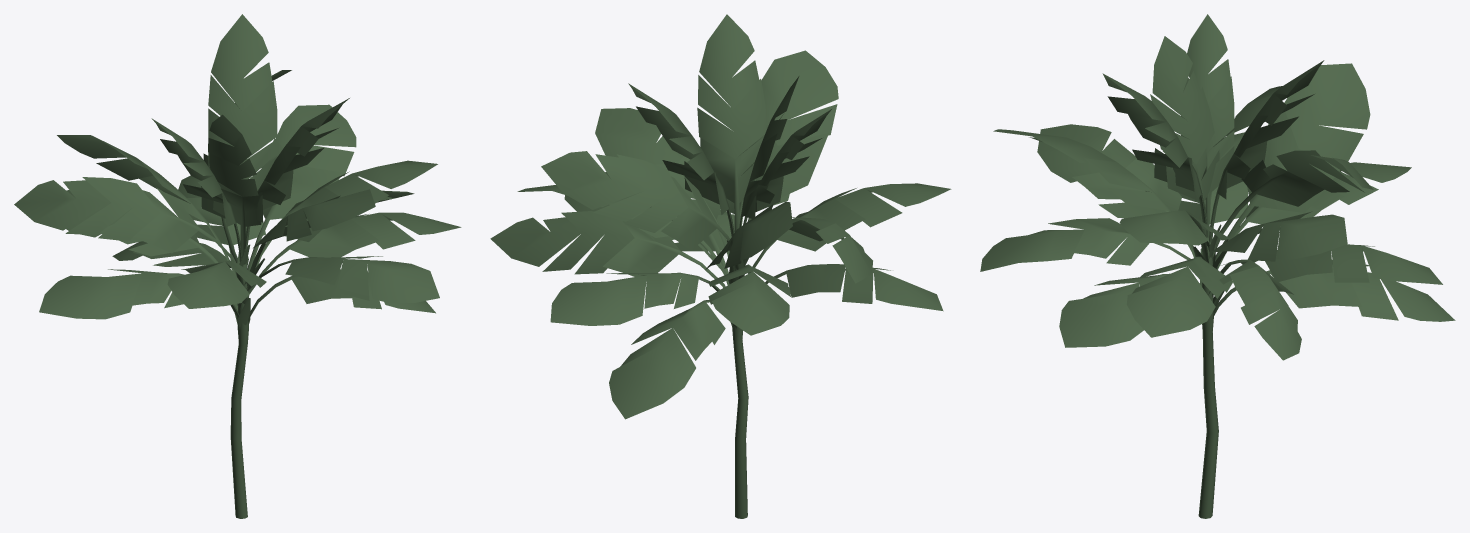
File: Ba Jiao Shu.fbx
3 renders of one model, left to right at view 1: azimuth 30°, elevation 25°; view 2: azimuth 150°, elevation 25°; view 3: azimuth 270°, elevation 25°, orthographic. The views are drawn at different scales.
Visible parts, largest first — view 1: polySurface54615, polySurface54613, polySurface54620, polySurface54603, polySurface54607, polySurface54621, polySurface54618, polySurface54609, polySurface54614, polySurface54610, polySurface54608, polySurface54606 (+6 smaller); view 2: polySurface54614, polySurface54616, polySurface54617, polySurface54619, polySurface54608, polySurface54604, polySurface54609, polySurface54603, polySurface54611, polySurface54610, polySurface54613, polySurface54606 (+6 smaller); view 3: polySurface54606, polySurface54618, polySurface54620, polySurface54621, polySurface54609, polySurface54619, polySurface54612, polySurface54616, polySurface54607, polySurface54604, polySurface54605, polySurface54617 (+8 smaller).
Part boxes in pixels (<box>): polySurface54615: <box>14,177,235,261</box>; polySurface54613: <box>208,14,277,248</box>; polySurface54620: <box>246,256,439,302</box>; polySurface54603: <box>39,269,239,323</box>; polySurface54607: <box>247,104,356,270</box>; polySurface54621: <box>248,212,461,295</box>; polySurface54618: <box>208,114,262,257</box>; polySurface54609: <box>167,260,266,308</box>; polySurface54614: <box>244,98,349,264</box>; polySurface54610: <box>252,160,437,263</box>; polySurface54608: <box>244,189,375,287</box>; polySurface54606: <box>57,135,236,276</box>; polySurface54614: <box>697,14,767,231</box>; polySurface54616: <box>541,151,729,250</box>; polySurface54617: <box>490,211,725,287</box>; polySurface54619: <box>609,300,733,419</box>; polySurface54608: <box>739,50,838,221</box>; polySurface54604: <box>550,272,719,325</box>; polySurface54609: <box>752,183,951,267</box>; polySurface54603: <box>765,264,943,311</box>; polySurface54611: <box>707,264,790,335</box>; polySurface54610: <box>595,108,729,256</box>; polySurface54613: <box>628,83,734,236</box>; polySurface54606: <box>705,201,792,270</box>; polySurface54606: <box>1215,63,1370,261</box>; polySurface54618: <box>1150,36,1219,236</box>; polySurface54620: <box>980,218,1190,271</box>; polySurface54621: <box>1126,256,1232,337</box>; polySurface54609: <box>1037,124,1195,257</box>; polySurface54619: <box>1213,260,1455,321</box>; polySurface54612: <box>1181,14,1234,238</box>; polySurface54616: <box>1212,150,1373,257</box>; polySurface54607: <box>1211,211,1347,268</box>; polySurface54604: <box>1213,244,1442,304</box>; polySurface54605: <box>1059,273,1169,347</box>; polySurface54617: <box>1208,259,1301,360</box>.
Size of the model in its own units: 1.42 by 1.49 by 1.32.
